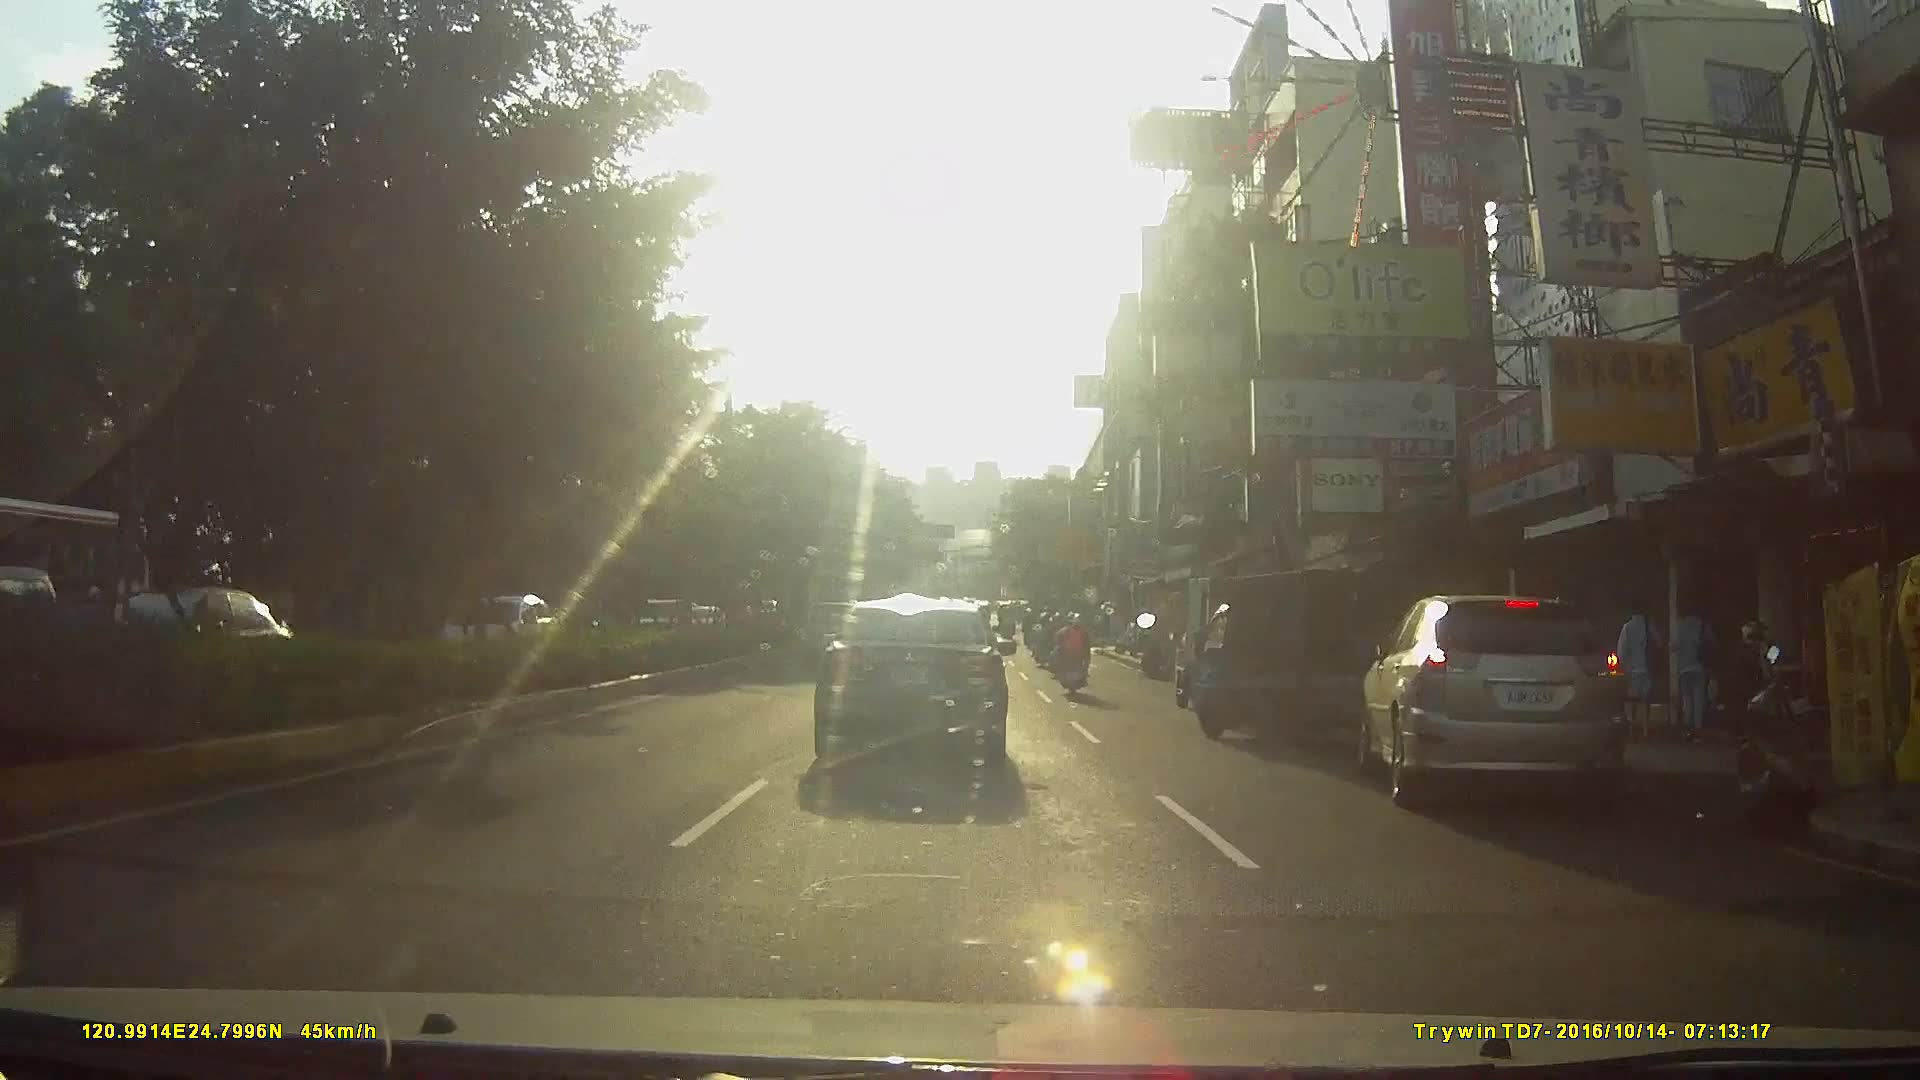pedestrian: (1616, 593, 1675, 744), (1667, 593, 1723, 743)
rider: (1047, 608, 1089, 698), (1029, 609, 1055, 665)
vehicle: (1359, 581, 1655, 833), (1172, 561, 1400, 761), (809, 591, 1027, 778), (1, 496, 161, 679)
